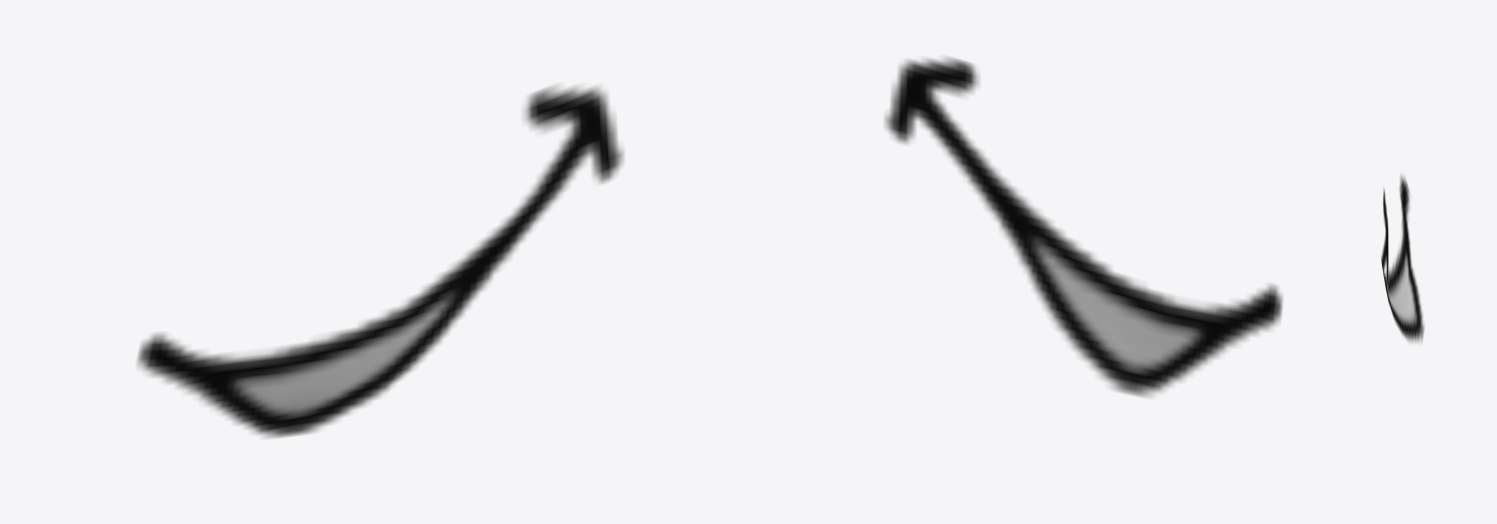
File: smile_04.glb
The picture shows the model from 3 angles, left to right: view 1: azimuth 30°, elevation 25°; view 2: azimuth 150°, elevation 25°; view 3: azimuth 270°, elevation 25°; orthographic projection. The views are drawn at different scales.
Visible parts, largest first — view 1: smile_04; view 2: smile_04; view 3: smile_04.
Boxes of the visible parts, bbox=[...] form: smile_04: bbox=[137, 85, 623, 437]; smile_04: bbox=[884, 57, 1282, 397]; smile_04: bbox=[1381, 173, 1424, 344].
Bounding box in the file's own units: 0.00271 × 0.00161 × 0.000522.
1 material, 1 textured.
